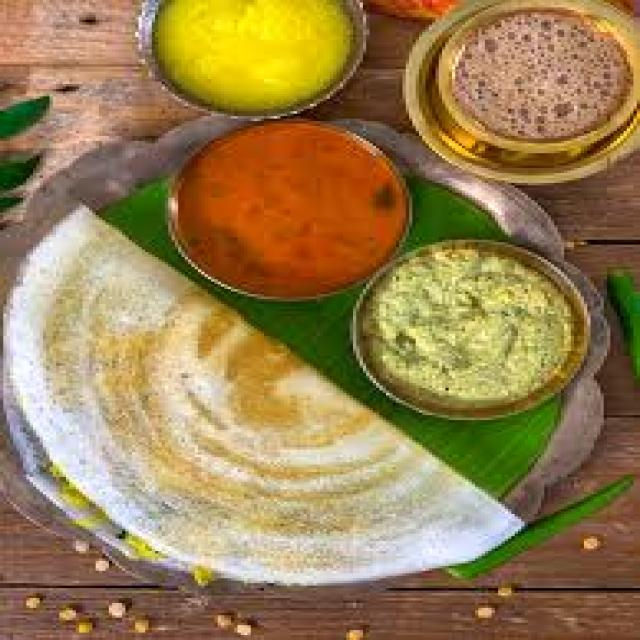chutney: (353, 240, 584, 415)
dosa: (3, 200, 524, 581)
